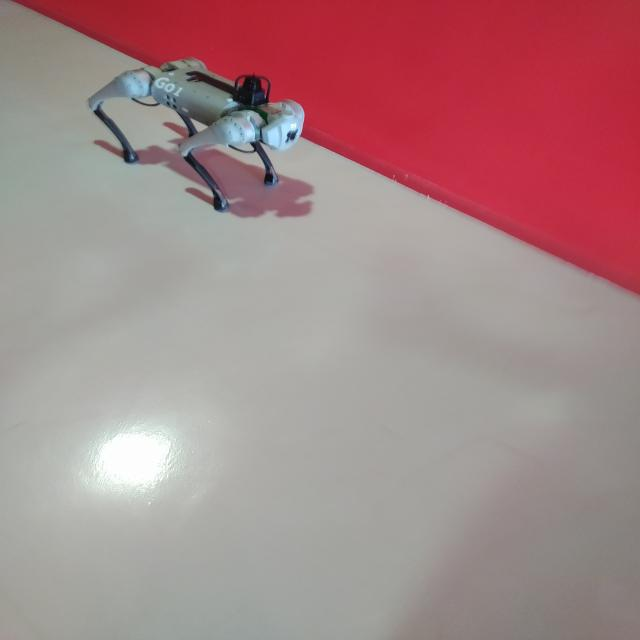unitree-go1-robot: (82, 47, 326, 227)
